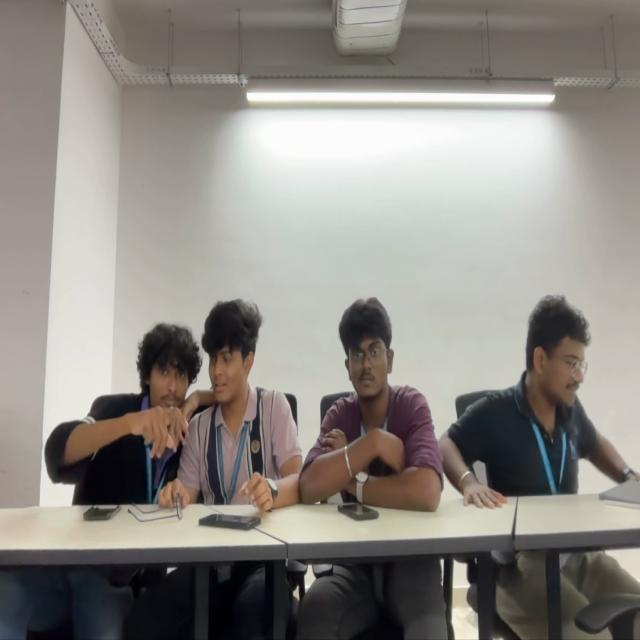Isolated: (461, 301, 628, 503)
socializing: (46, 285, 441, 511)
